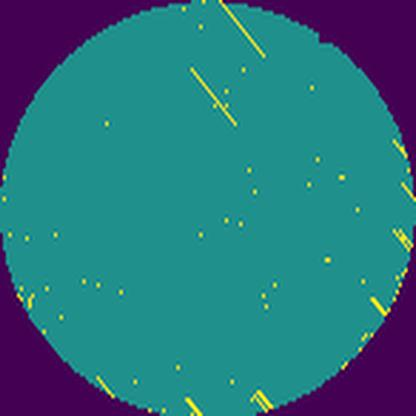Scratch: (186, 63, 240, 130), (217, 0, 272, 59)
